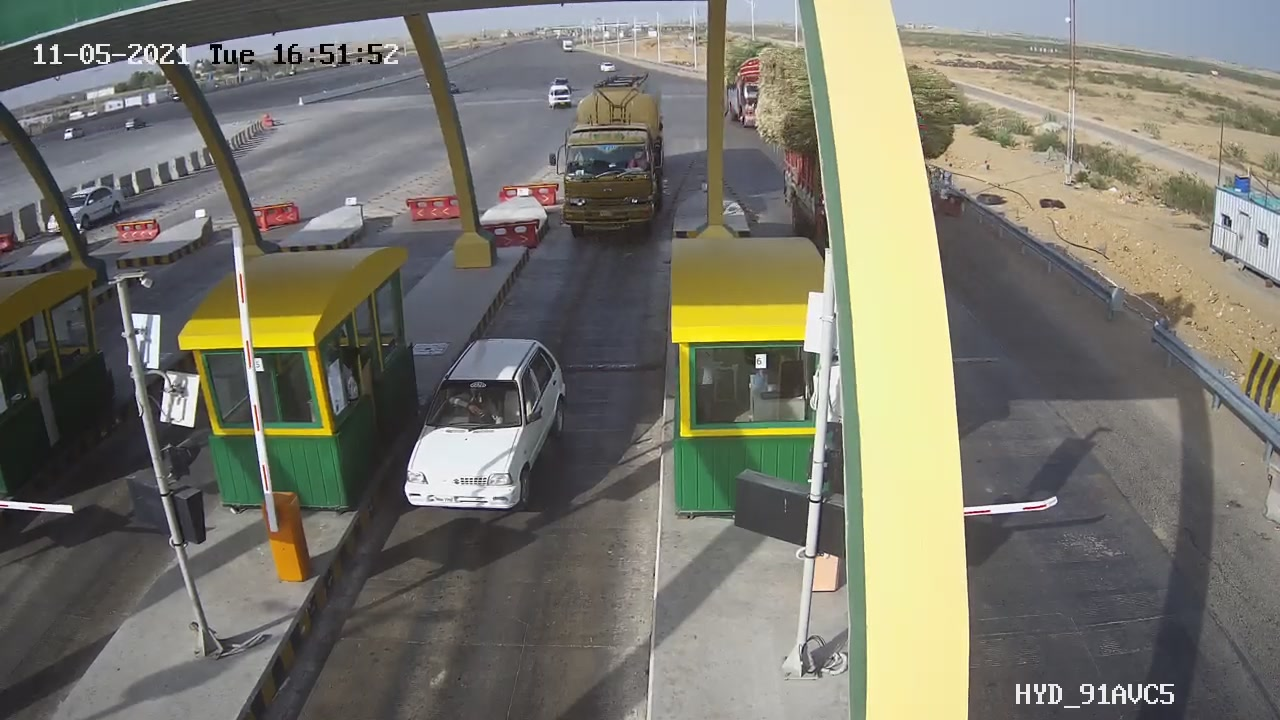F1: (380, 315, 583, 532)
